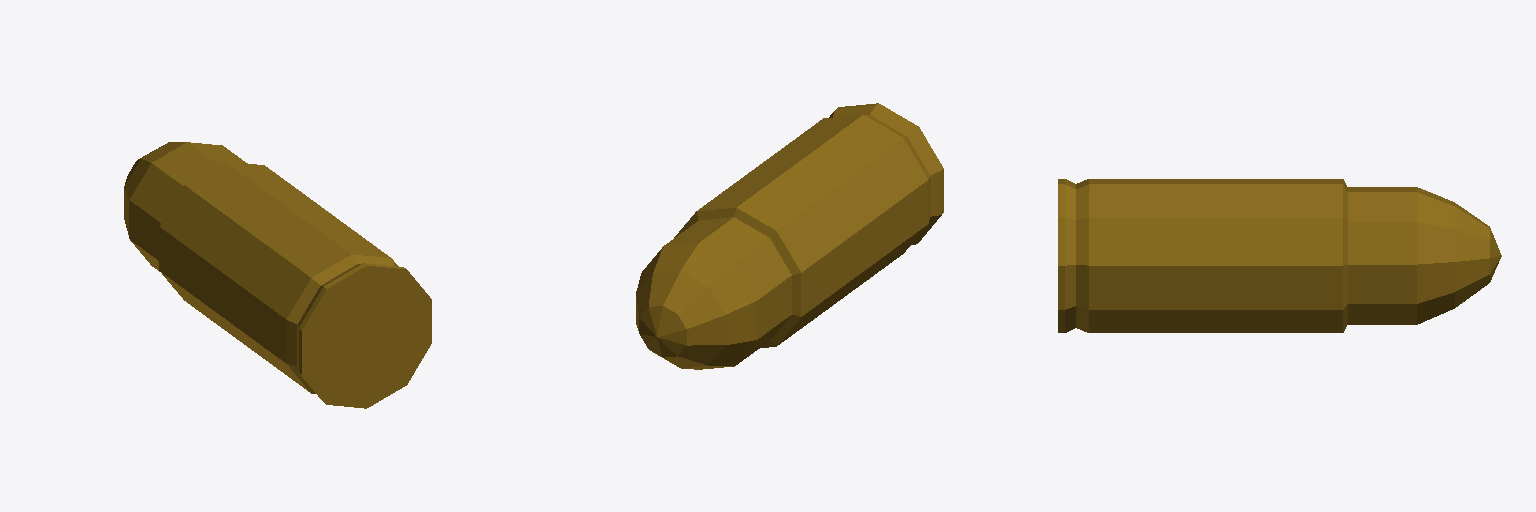
The model's file is bullet.obj.
3 views of the same model, side by side, from view 1: azimuth 30°, elevation 25°; view 2: azimuth 150°, elevation 25°; view 3: azimuth 270°, elevation 25° (orthographic).
Parts seen in each view (by area): view 1: bullet; view 2: bullet; view 3: bullet.
Part boxes in pixels (left/top/right/bottom): bullet: left=124, top=142, right=431, bottom=408; bullet: left=636, top=103, right=943, bottom=369; bullet: left=1058, top=179, right=1501, bottom=332.
Size of the model in its own units: 0.1996 by 0.2098 by 0.59.